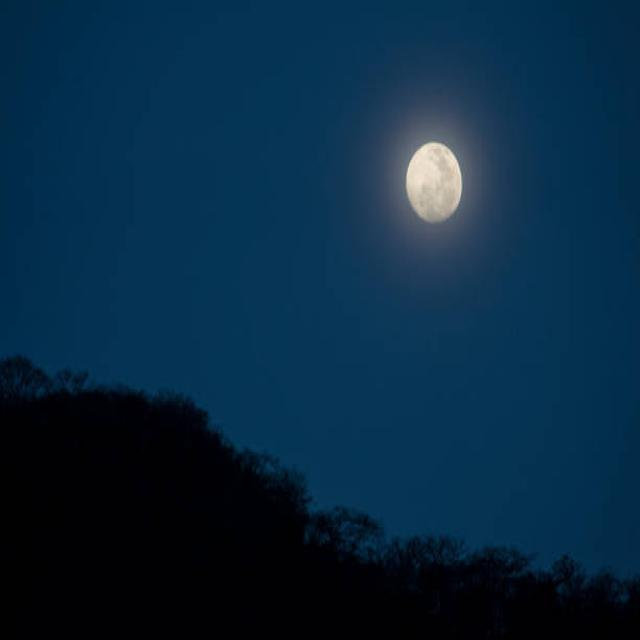moon: (405, 139, 463, 226)
